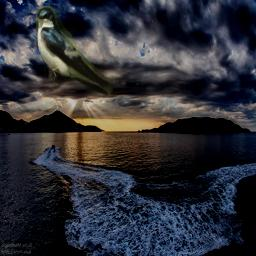Swallow: (36, 6, 113, 96)
